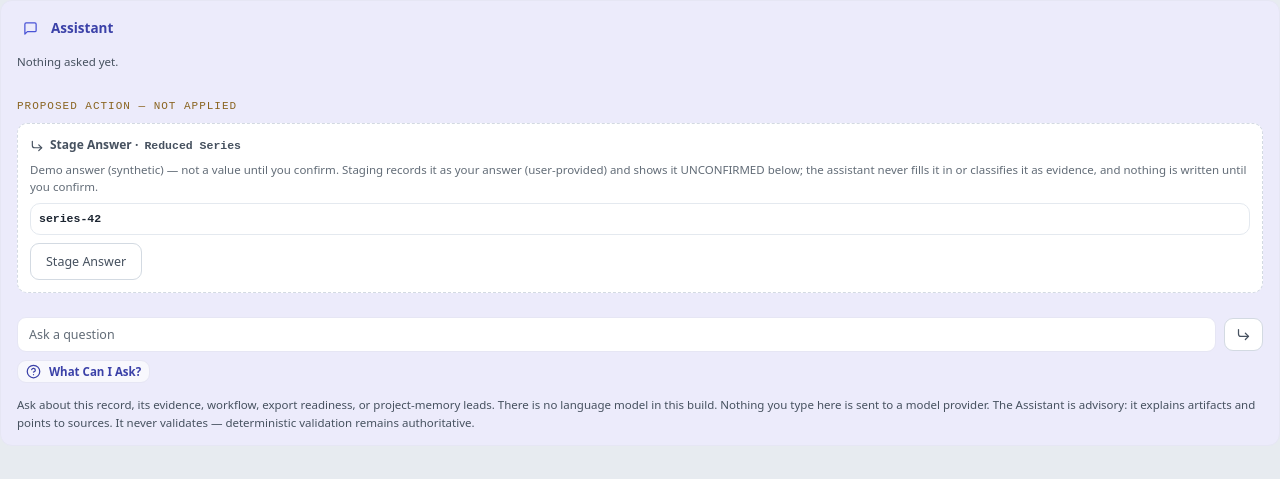
Test: P29.6 staging a value creates an UNCONFIRMED proposal (no mutation) › staging the current field infers no ADDITIONAL field — exactly one proposal for one named field
The width and height of the screenshot is (1280, 479).
What coordinates should you click on to do the following:
click the button "Stage Answer"
I would click on:
 (86, 262)
Its box is x1=30 y1=243 x2=142 y2=280.
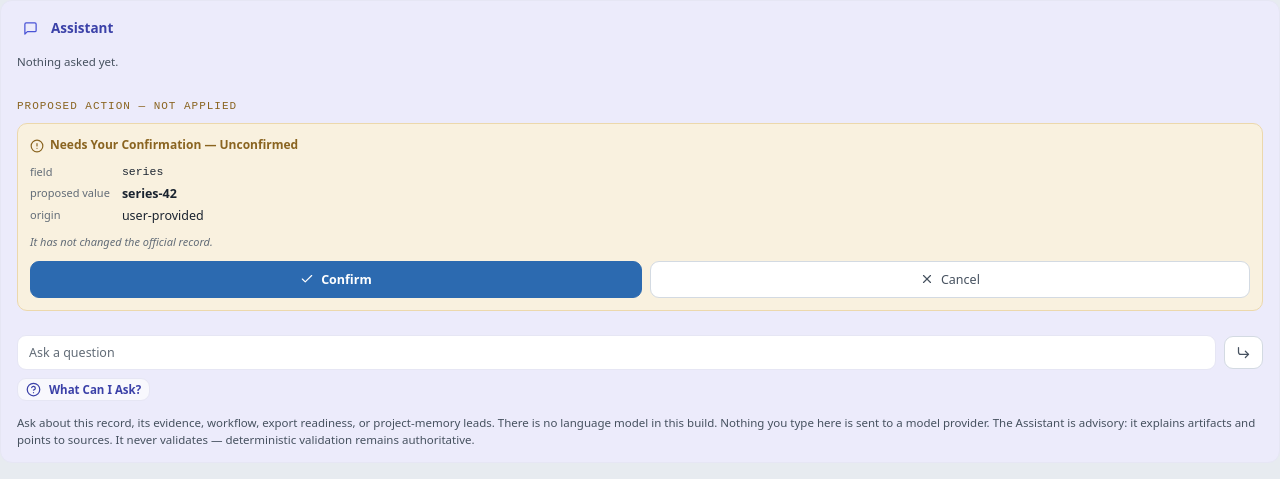
Expected: the text with class "mono" reads "series", x1=122 y1=165 x2=163 y2=178
Result: the number of elements with class "agent-proposal" is 1 at x1=17 y1=123 x2=1263 y2=310
